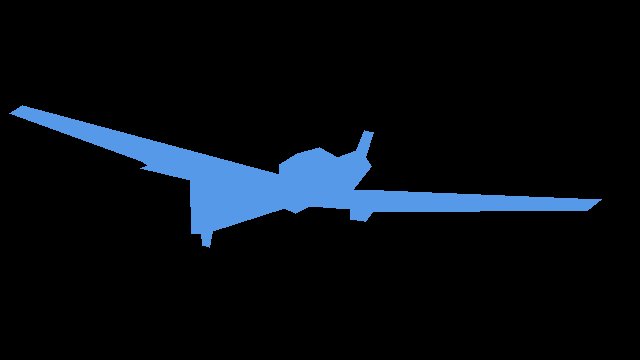Airplane: (9, 105, 602, 248)
